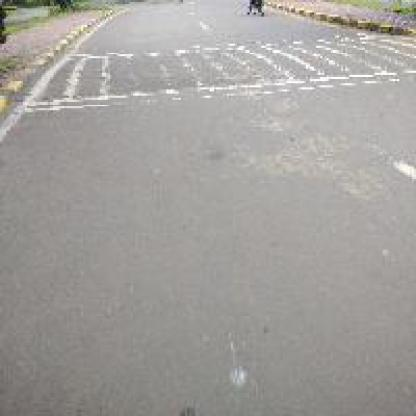Speed Bump: (27, 31, 414, 114)
